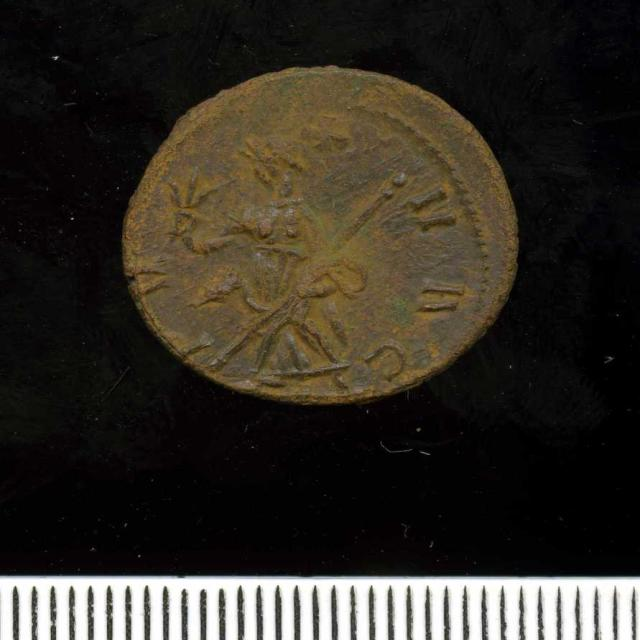Coin: (122, 66, 517, 404)
